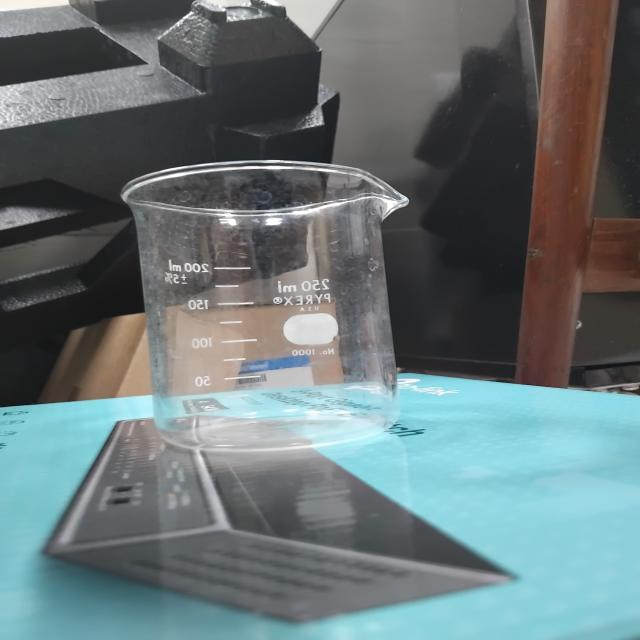Beaker: (86, 118, 447, 478)
